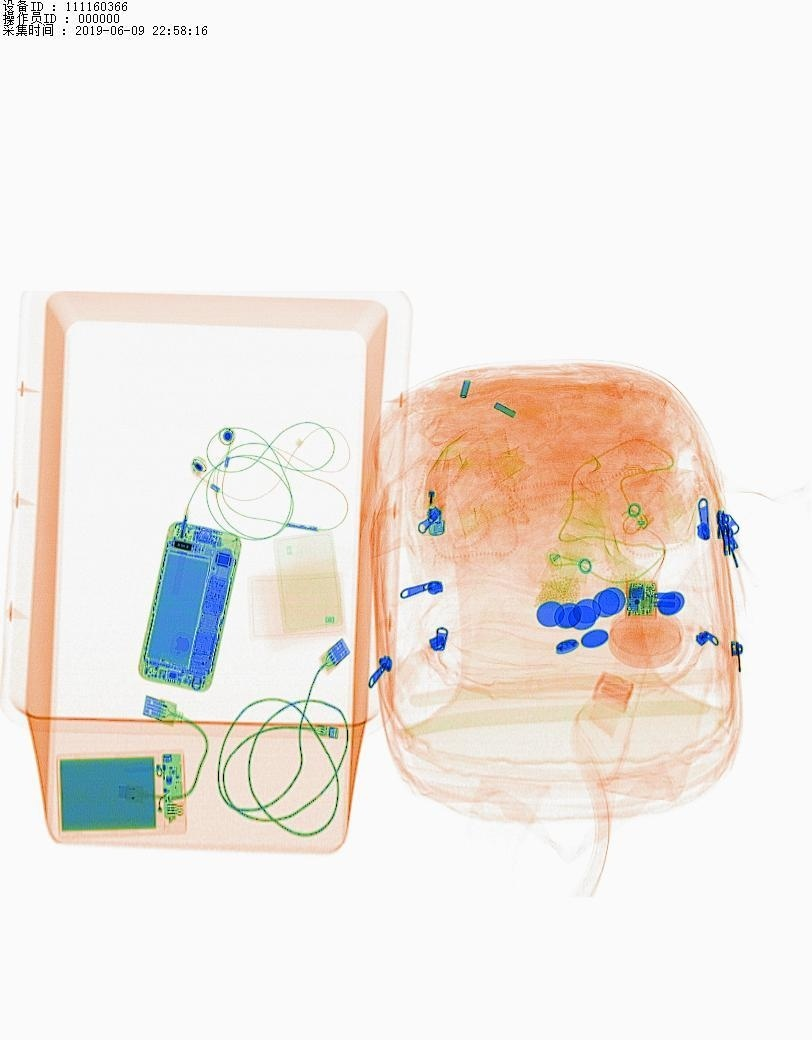NonmetallicFire: (415, 446, 465, 558)
